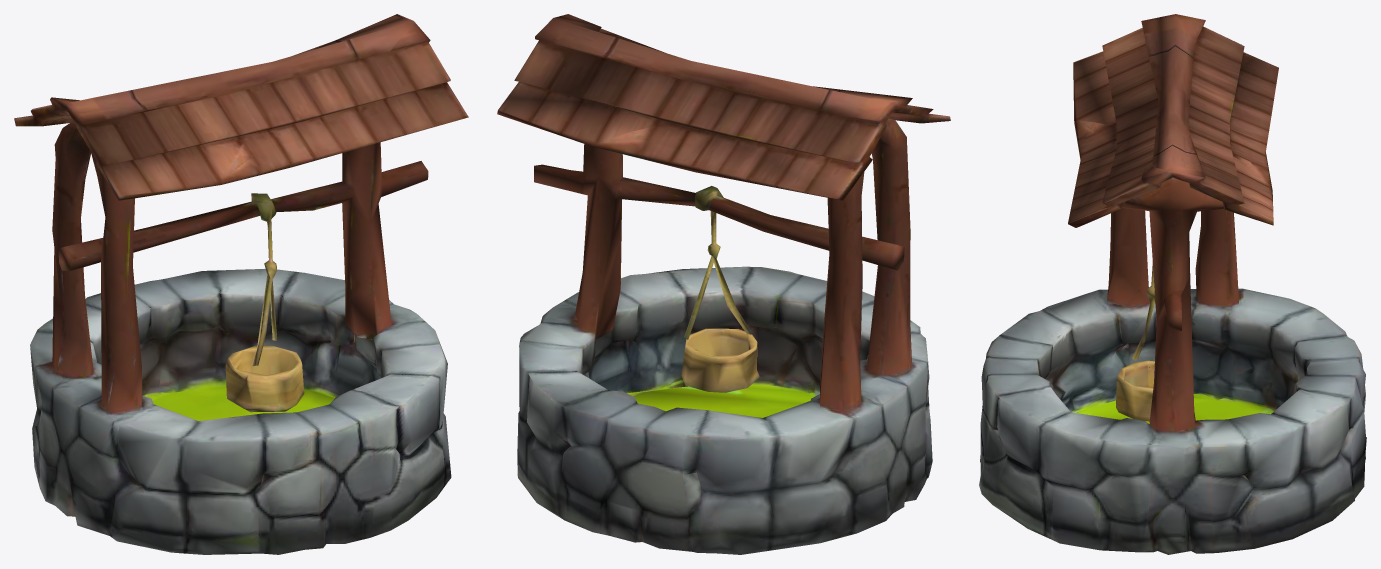
The model's file is stone_well.glb.
The picture shows the model from 3 angles, left to right: view 1: azimuth 30°, elevation 25°; view 2: azimuth 150°, elevation 25°; view 3: azimuth 270°, elevation 25°; orthographic projection. The views are drawn at different scales.
Parts seen in each view (by area): view 1: 0; view 2: 0; view 3: 0.
Part boxes in pixels (x1,y1,x2,y2): 0: (14,14,468,554); 0: (497,14,950,554); 0: (979,14,1366,554).
Bounding box in the file's own units: 1.71 × 1.9 × 1.68.
Materials: 1 (1 with a texture image).
